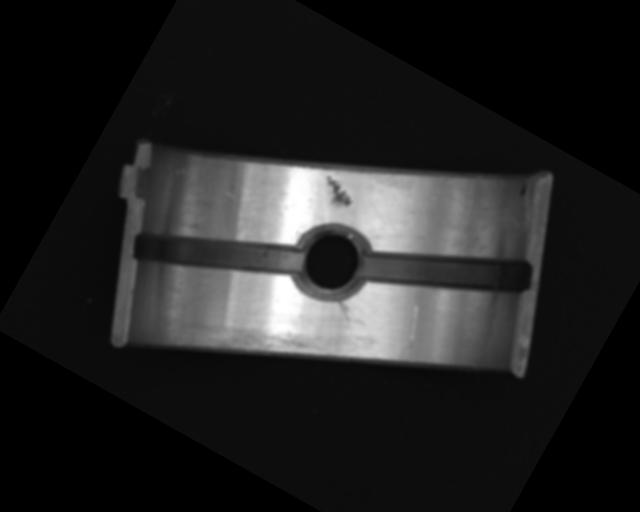blot: (517, 181, 530, 197)
bruise: (314, 174, 358, 213), (220, 188, 242, 206)
gap: (358, 195, 536, 349), (126, 179, 304, 329)
hole: (282, 210, 383, 314)
nick: (379, 293, 434, 365), (331, 299, 356, 321)
scratch: (172, 273, 341, 417)
